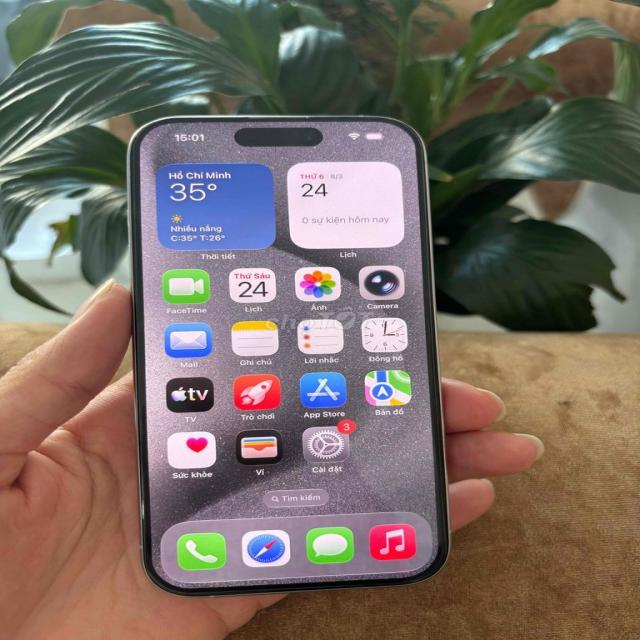gen_15: (120, 88, 469, 586)
